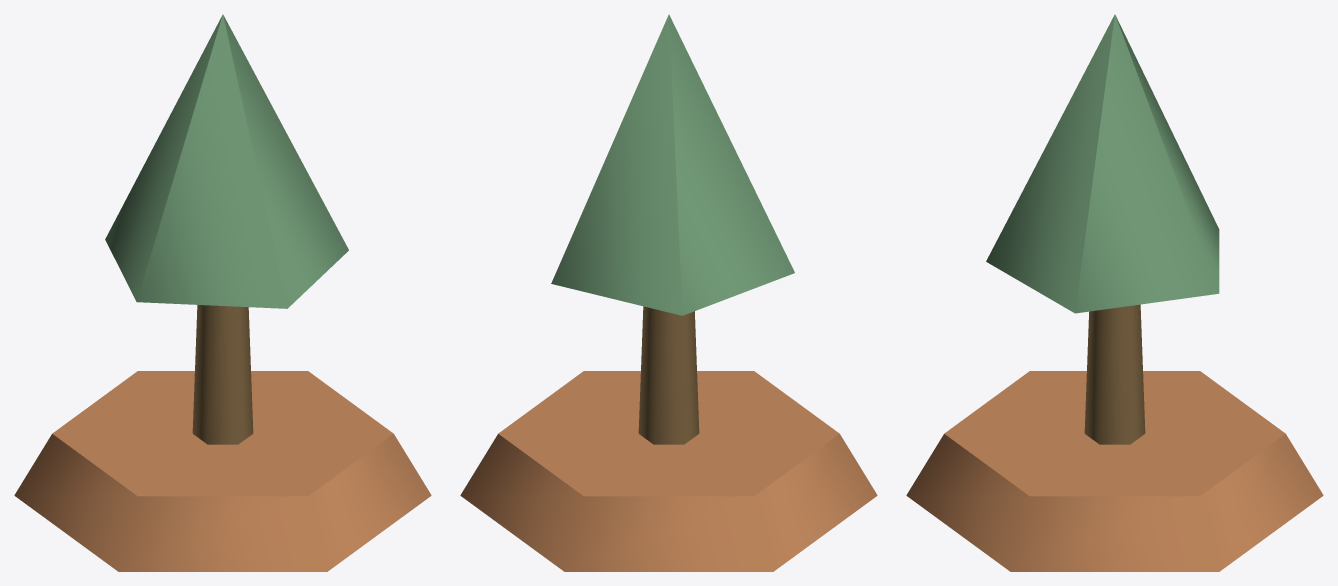
File: lounge-accent.gltf
3 renders of one model, left to right at view 1: azimuth 30°, elevation 25°; view 2: azimuth 150°, elevation 25°; view 3: azimuth 270°, elevation 25°, orthographic.
Size of the model in its own units: 0.9526 by 1.4 by 1.1.
